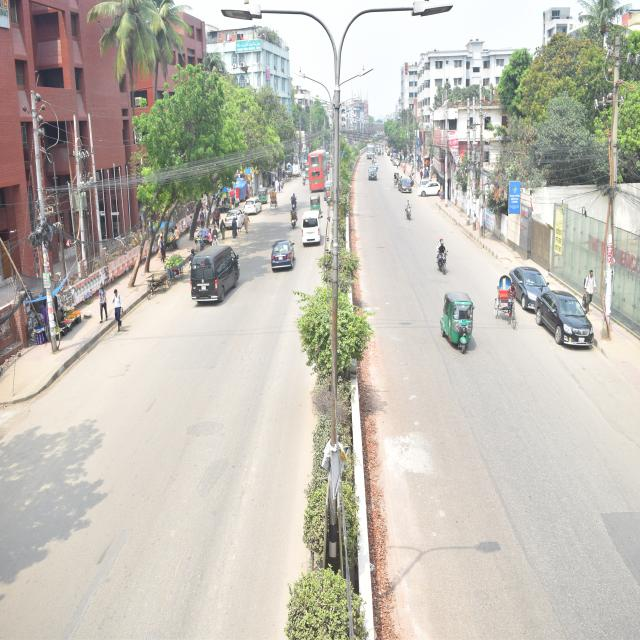bus: (305, 142, 329, 200)
car: (536, 286, 596, 350), (506, 262, 554, 310), (270, 238, 297, 274), (418, 178, 447, 202), (224, 203, 246, 230), (242, 191, 263, 216), (398, 171, 413, 196)
microbus: (188, 244, 245, 307), (298, 208, 326, 251)
motorbike: (434, 243, 452, 275), (403, 200, 414, 222), (290, 204, 298, 230)
pickup-van: (367, 161, 380, 186)
